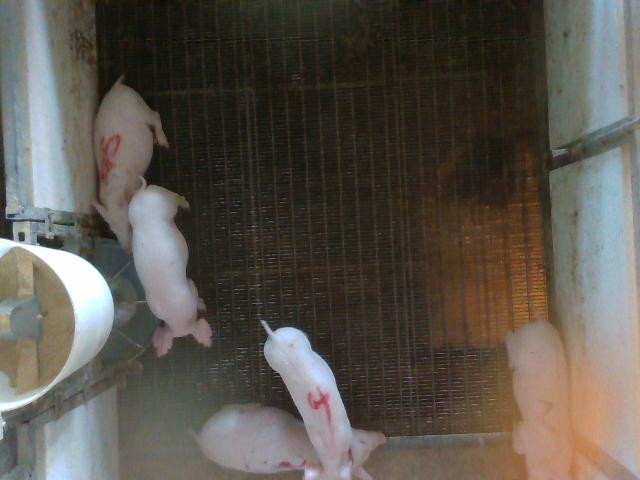pig-2: (506, 319, 572, 479)
pig-3: (196, 404, 322, 478), (349, 429, 385, 478)
pig-4: (261, 320, 352, 479)
pig-5: (94, 76, 169, 252)
